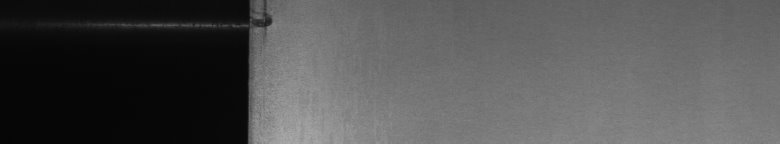hb: (260, 4, 280, 43)
